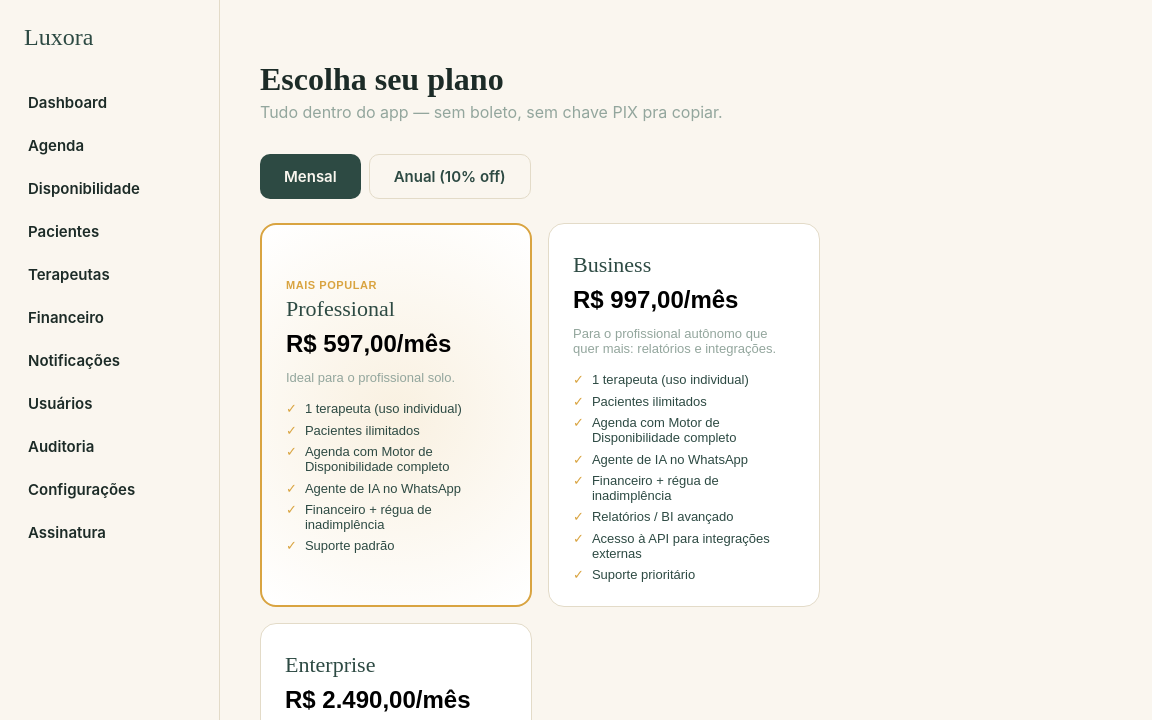
it: SubscriptionPage — checkout › ciclo anual: doze meses com 10% de desconto em cada plano
Click the button "Anual (10% off)". click: [450, 177]
box: [369,154,531,199]
(page scrolled)
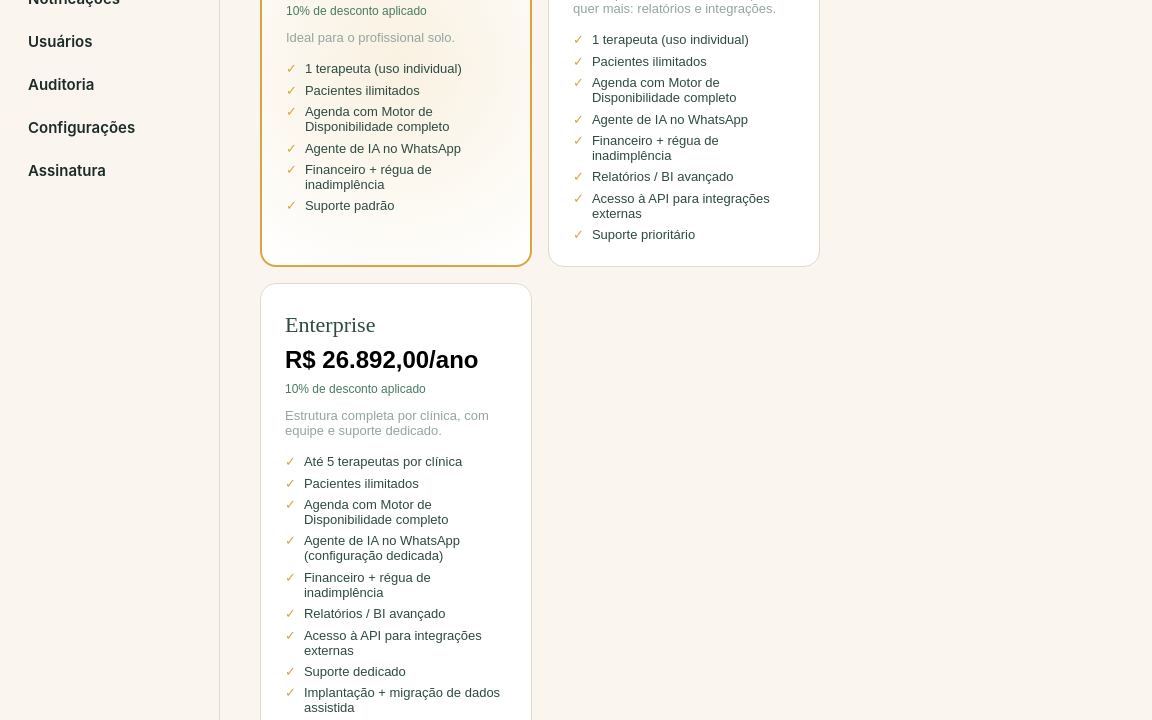
Result: the text "R$ 26.892,00/ano" is shown at [285,346,507,374]
Result: the text "10% de desconto aplicado" is shown 3 times
